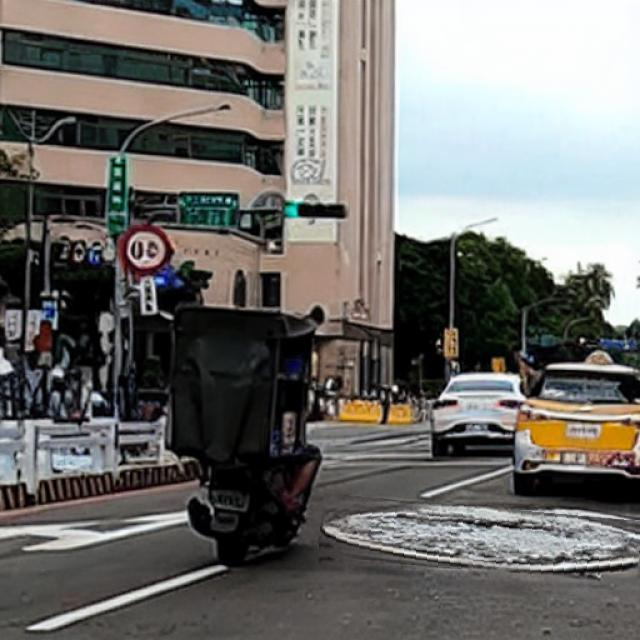puddle: (321, 501, 640, 577)
